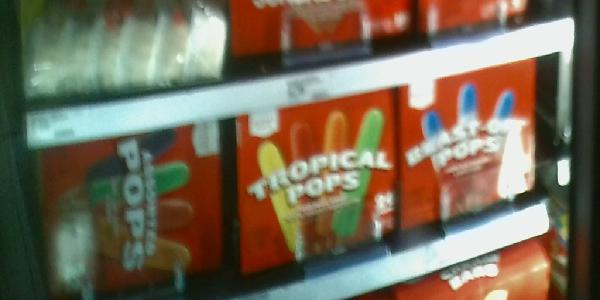icecream: (28, 135, 230, 290), (234, 108, 396, 265), (399, 72, 556, 212)
